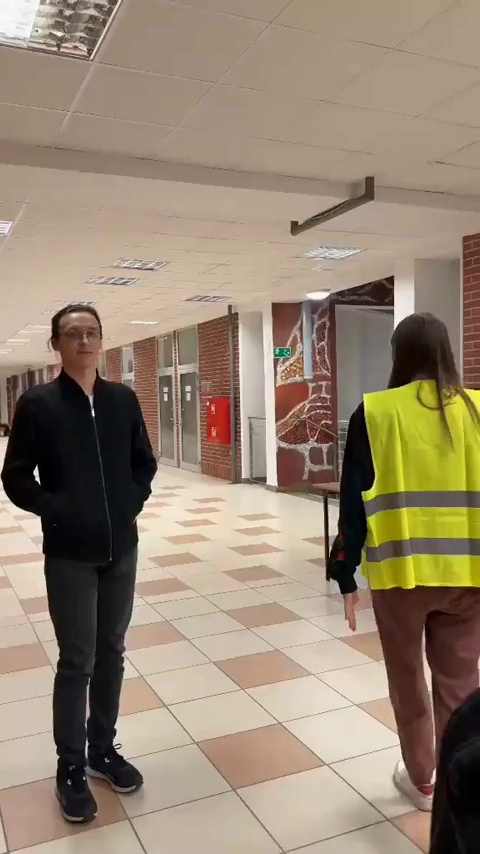no vest: (9, 299, 165, 819)
vest: (304, 305, 480, 812)
